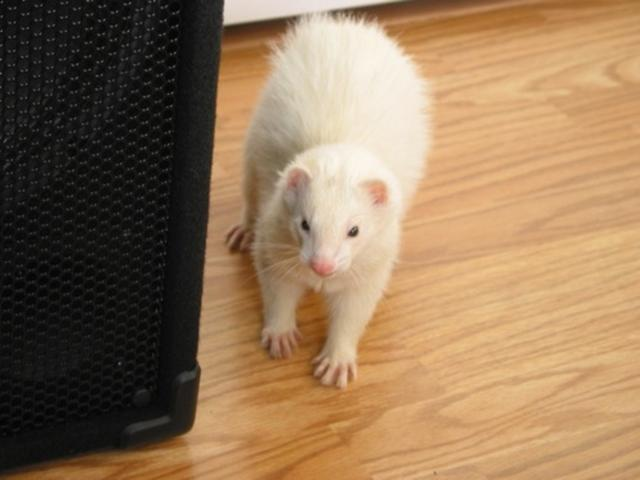mouse: (179, 10, 467, 421)
